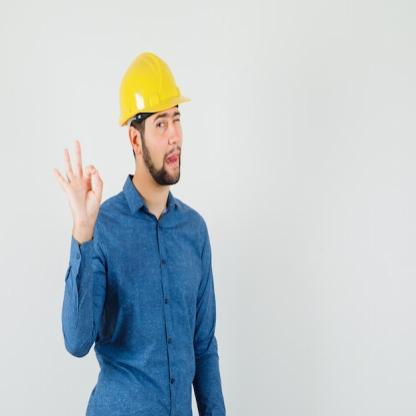ok: (50, 135, 106, 236)
